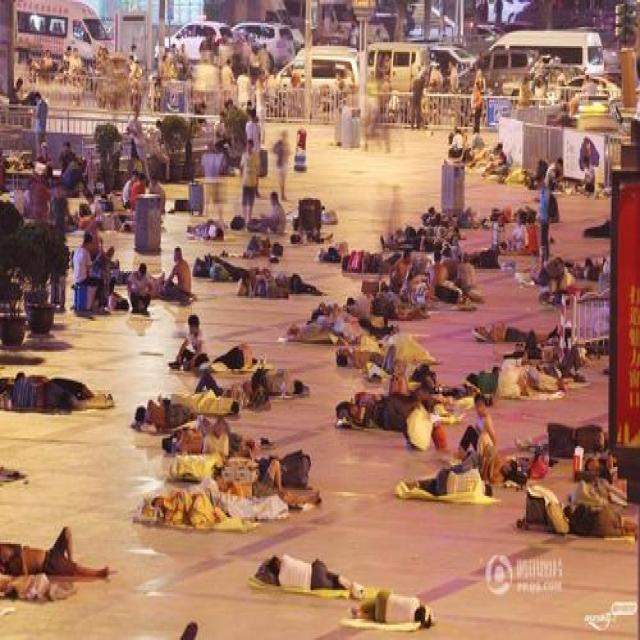10-: (0, 31, 639, 630)
down: (0, 515, 110, 584), (211, 456, 319, 500), (261, 546, 351, 592), (346, 584, 435, 628), (1, 369, 100, 406), (404, 463, 490, 500), (558, 500, 634, 540), (462, 359, 534, 398), (247, 361, 310, 402), (162, 424, 242, 456), (124, 390, 193, 423), (471, 317, 561, 342), (332, 340, 403, 369), (202, 338, 261, 371), (272, 267, 322, 298), (179, 217, 223, 238)
